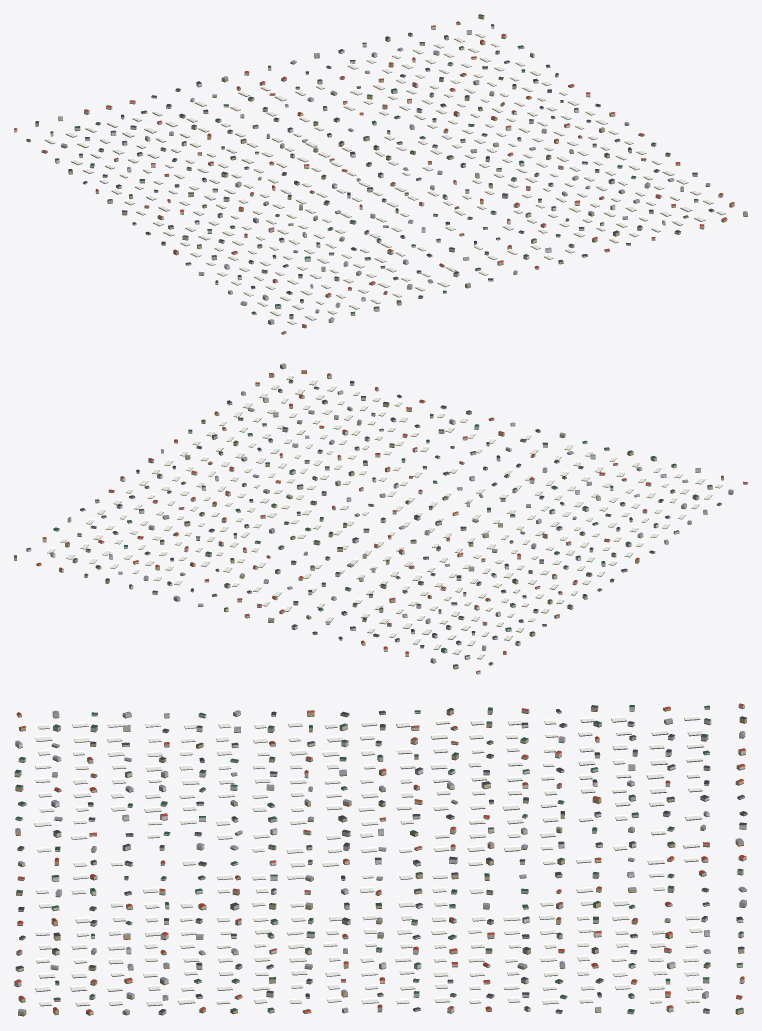
File: buildings_T_E02_S02.glb
The picture shows the model from 3 angles, top to bottom: view 1: azimuth 30°, elevation 25°; view 2: azimuth 150°, elevation 25°; view 3: azimuth 270°, elevation 25°; orthographic projection. The views are drawn at different scales.
Parts seen in each view (by area): view 1: T_E02_S02_roofs_agri_greenhouse_arch, T_E02_S02_slope_seating_foundations, T_E02_S02_walls_wall_french_ochre_villa, T_E02_S02_walls_wall_modern_warm_white, T_E02_S02_walls_wall_pastel_sand_gray, T_E02_S02_roofs_roof_slate_French_villa_hip, T_E02_S02_walls_wall_dalat_cream_stucco, T_E02_S02_roofs_roof_pine_green_hip, T_E02_S02_roofs_roof_terracotta_gable, T_E02_S02_roofs_roof_zinc_silver_gable; view 2: T_E02_S02_roofs_agri_greenhouse_arch, T_E02_S02_slope_seating_foundations, T_E02_S02_walls_wall_french_ochre_villa, T_E02_S02_walls_wall_modern_warm_white, T_E02_S02_walls_wall_pastel_sand_gray, T_E02_S02_roofs_roof_slate_French_villa_hip, T_E02_S02_walls_wall_dalat_cream_stucco, T_E02_S02_roofs_roof_pine_green_hip, T_E02_S02_roofs_roof_terracotta_gable, T_E02_S02_roofs_roof_zinc_silver_gable; view 3: T_E02_S02_roofs_agri_greenhouse_arch, T_E02_S02_slope_seating_foundations, T_E02_S02_walls_wall_french_ochre_villa, T_E02_S02_walls_wall_modern_warm_white, T_E02_S02_roofs_roof_slate_French_villa_hip, T_E02_S02_walls_wall_pastel_sand_gray, T_E02_S02_walls_wall_dalat_cream_stucco, T_E02_S02_roofs_roof_pine_green_hip, T_E02_S02_roofs_roof_terracotta_gable, T_E02_S02_roofs_roof_zinc_silver_gable.
Part boxes in pixels (x1=…): T_E02_S02_roofs_agri_greenhouse_arch: x1=44, y1=32, x2=725, y2=324; T_E02_S02_slope_seating_foundations: x1=14, y1=18, x2=747, y2=334; T_E02_S02_walls_wall_french_ochre_villa: x1=35, y1=15, x2=747, y2=327; T_E02_S02_walls_wall_modern_warm_white: x1=14, y1=26, x2=659, y2=322; T_E02_S02_walls_wall_pastel_sand_gray: x1=26, y1=36, x2=698, y2=334; T_E02_S02_roofs_roof_slate_French_villa_hip: x1=35, y1=24, x2=697, y2=301; T_E02_S02_walls_wall_dalat_cream_stucco: x1=58, y1=33, x2=723, y2=315; T_E02_S02_roofs_roof_pine_green_hip: x1=26, y1=14, x2=713, y2=315; T_E02_S02_roofs_roof_terracotta_gable: x1=14, y1=21, x2=734, y2=333; T_E02_S02_roofs_roof_zinc_silver_gable: x1=58, y1=30, x2=747, y2=321; T_E02_S02_roofs_agri_greenhouse_arch: x1=47, y1=374, x2=723, y2=658; T_E02_S02_slope_seating_foundations: x1=14, y1=367, x2=747, y2=674; T_E02_S02_walls_wall_french_ochre_villa: x1=14, y1=364, x2=723, y2=668; T_E02_S02_walls_wall_modern_warm_white: x1=26, y1=414, x2=700, y2=673; T_E02_S02_walls_wall_pastel_sand_gray: x1=72, y1=388, x2=747, y2=664; T_E02_S02_roofs_roof_slate_French_villa_hip: x1=26, y1=381, x2=674, y2=666; T_E02_S02_walls_wall_dalat_cream_stucco: x1=42, y1=375, x2=721, y2=662; T_E02_S02_roofs_roof_pine_green_hip: x1=14, y1=380, x2=721, y2=664; T_E02_S02_roofs_roof_terracotta_gable: x1=37, y1=370, x2=747, y2=672; T_E02_S02_roofs_roof_zinc_silver_gable: x1=50, y1=363, x2=733, y2=660; T_E02_S02_roofs_agri_greenhouse_arch: x1=34, y1=715, x2=704, y2=1005; T_E02_S02_slope_seating_foundations: x1=14, y1=707, x2=747, y2=1016; T_E02_S02_walls_wall_french_ochre_villa: x1=15, y1=707, x2=747, y2=1015; T_E02_S02_walls_wall_modern_warm_white: x1=15, y1=704, x2=746, y2=1013; T_E02_S02_roofs_roof_slate_French_villa_hip: x1=16, y1=705, x2=747, y2=1012; T_E02_S02_walls_wall_pastel_sand_gray: x1=16, y1=707, x2=746, y2=1014; T_E02_S02_walls_wall_dalat_cream_stucco: x1=14, y1=712, x2=746, y2=1014; T_E02_S02_roofs_roof_pine_green_hip: x1=14, y1=705, x2=743, y2=1012; T_E02_S02_roofs_roof_terracotta_gable: x1=14, y1=703, x2=746, y2=1012; T_E02_S02_roofs_roof_zinc_silver_gable: x1=15, y1=710, x2=746, y2=1012.
Size of the model in its own units: 1791 by 40.72 by 1792.
